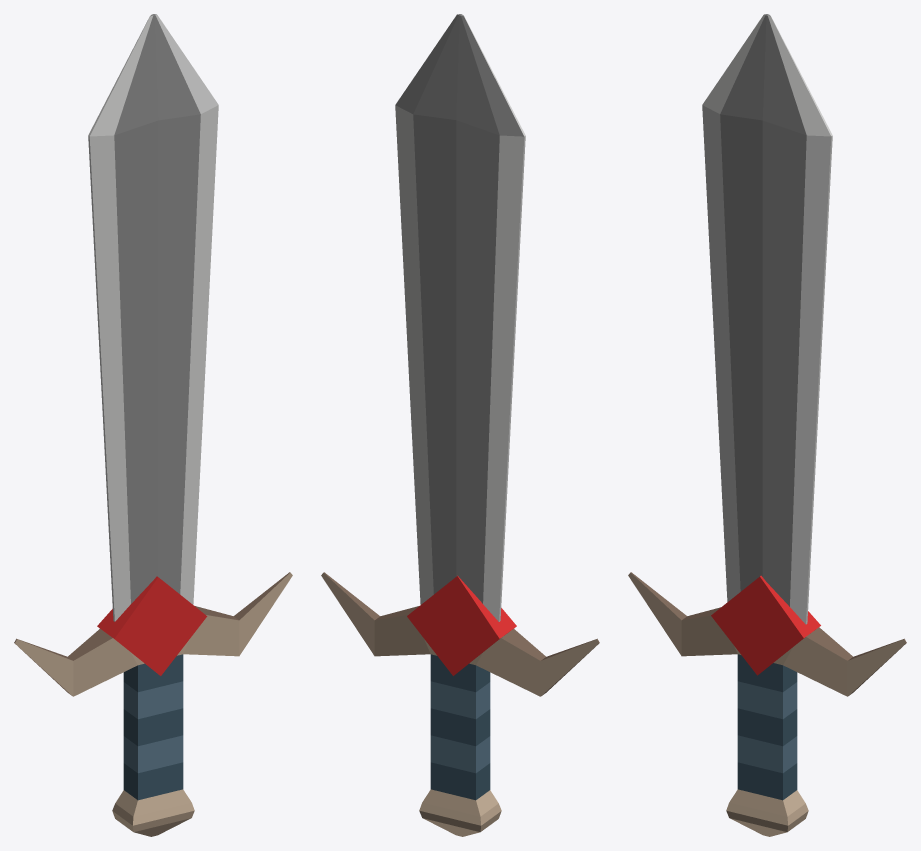
The model's file is KnightSword.fbx.
The picture shows the model from 3 angles, left to right: view 1: azimuth 30°, elevation 25°; view 2: azimuth 150°, elevation 25°; view 3: azimuth 330°, elevation 25°; orthographic projection.
Visible parts, largest first — view 1: KnightSword; view 2: KnightSword; view 3: KnightSword.
Boxes of the visible parts, x1,y1,x2,y2 form: KnightSword: (14,14,292,836); KnightSword: (321,14,599,836); KnightSword: (628,14,906,836).
Size of the model in its own units: 0.3557 by 1 by 0.0455.
1 material, 1 textured.
